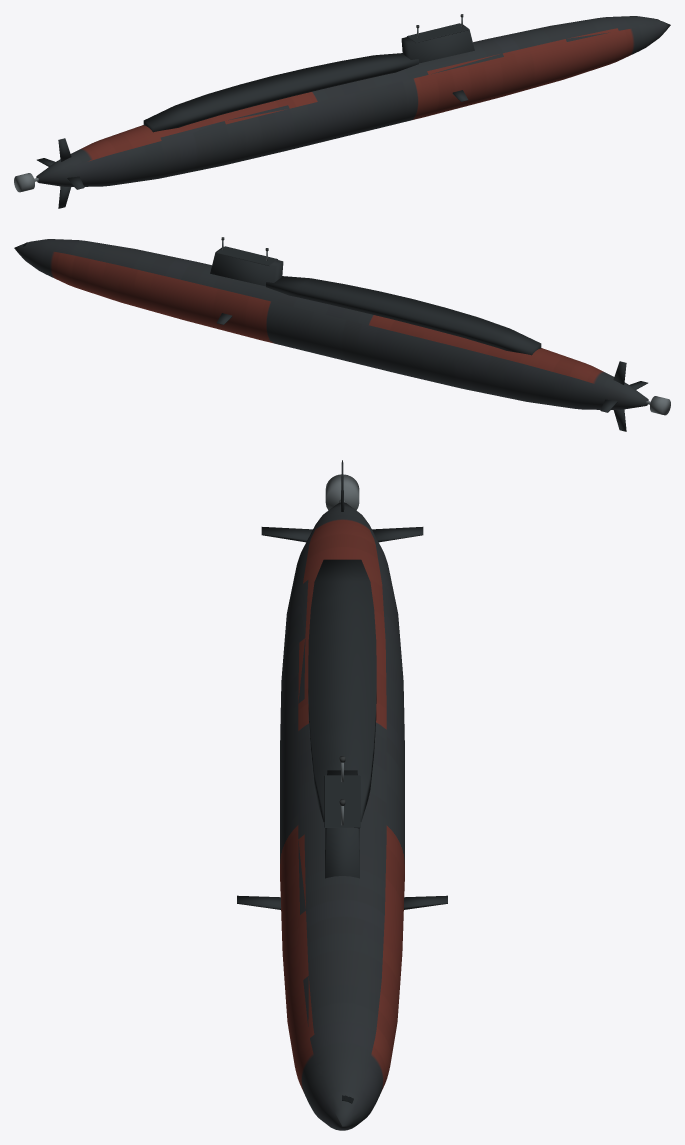
The model's file is UK_SSBN_Vanguard_LOD2.fbx.
The picture shows the model from 3 angles, top to bottom: view 1: azimuth 30°, elevation 25°; view 2: azimuth 150°, elevation 25°; view 3: azimuth 270°, elevation 25°; orthographic projection. The views are drawn at different scales.
Visible parts, largest first — view 1: UK_SSBN_Vanguard_LOD2; view 2: UK_SSBN_Vanguard_LOD2; view 3: UK_SSBN_Vanguard_LOD2.
Boxes of the visible parts, x1,y1,x2,y2 form: UK_SSBN_Vanguard_LOD2: (14,14,670,208); UK_SSBN_Vanguard_LOD2: (14,237,670,431); UK_SSBN_Vanguard_LOD2: (237,460,447,1130).
Bounding box in the file's own units: 155 × 21.61 × 21.64.
Materials: 6 (1 with a texture image).
